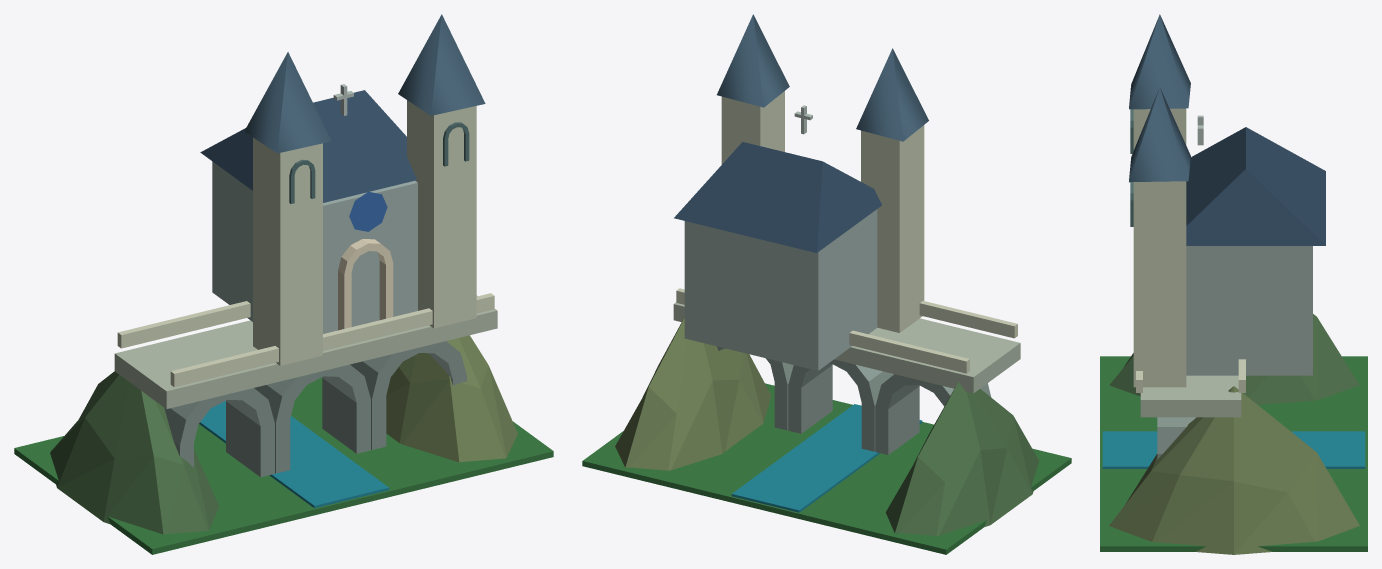
Rendered from las-lajas-sanctuary.glb.
The picture shows the model from 3 angles, left to right: view 1: azimuth 30°, elevation 25°; view 2: azimuth 150°, elevation 25°; view 3: azimuth 270°, elevation 25°; orthographic projection. The views are drawn at different scales.
Visible parts, largest first — view 1: towers_C6C8B7, base_7B8770, base, bridge_A6AA9A, body_B6BCAD, bridge_BBBCAA, base_8A8D74, roof_616F66, roof, bridge_C3C7B6, river_608E96, body_DADACA (+2 smaller); view 2: body_B6BCAD, base, base_7B8770, base_8A8D74, roof_616F66, towers_C6C8B7, bridge_A6AA9A, roof, river_608E96, bridge_BBBCAA, bridge_C3C7B6; view 3: base_8A8D74, body_B6BCAD, roof_616F66, base, towers_C6C8B7, roof, base_7B8770, river_608E96, bridge_BBBCAA, bridge_A6AA9A, bridge_C3C7B6, towers_8A9285.
Part boxes in pixels (box(x1,y1,x2,y2)): towers_C6C8B7: box(253, 100, 476, 365); base_7B8770: box(50, 371, 219, 534); base: box(14, 377, 553, 554); bridge_A6AA9A: box(164, 341, 466, 477); body_B6BCAD: box(212, 161, 417, 333); bridge_BBBCAA: box(114, 295, 497, 409); base_8A8D74: box(386, 335, 517, 462); roof_616F66: box(200, 90, 416, 202); roof: box(244, 14, 485, 153); bridge_C3C7B6: box(117, 293, 494, 387); river_608E96: box(199, 400, 389, 508); body_DADACA: box(338, 239, 393, 330); body_B6BCAD: box(684, 209, 877, 370); base: box(582, 383, 1071, 554); base_7B8770: box(885, 381, 1039, 535); base_8A8D74: box(615, 318, 771, 470); roof_616F66: box(674, 142, 881, 252); towers_C6C8B7: box(721, 91, 924, 332); bridge_A6AA9A: box(717, 346, 990, 454); roof: box(717, 14, 928, 141); river_608E96: box(731, 404, 922, 512); bridge_BBBCAA: box(673, 302, 1020, 393); bridge_C3C7B6: box(676, 288, 1017, 373); base_8A8D74: box(1109, 386, 1359, 554); body_B6BCAD: box(1186, 246, 1312, 375); roof_616F66: box(1186, 127, 1325, 245); base: box(1100, 356, 1367, 551); towers_C6C8B7: box(1133, 108, 1186, 387); roof: box(1129, 14, 1190, 182); base_7B8770: box(1109, 314, 1359, 404); river_608E96: box(1102, 431, 1365, 468); bridge_BBBCAA: box(1140, 375, 1241, 417); bridge_A6AA9A: box(1157, 417, 1195, 458); bridge_C3C7B6: box(1136, 359, 1245, 392); towers_8A9285: box(1130, 109, 1133, 226).
Size of the model in its own units: 1 by 1.02 by 0.5822.
